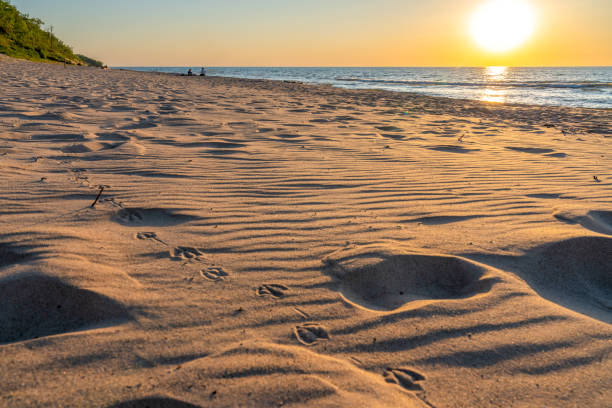animal_footprint: (383, 368, 424, 390), (294, 323, 329, 345), (170, 246, 203, 260), (256, 284, 288, 297), (200, 267, 229, 281), (136, 232, 167, 245), (116, 209, 143, 223)
